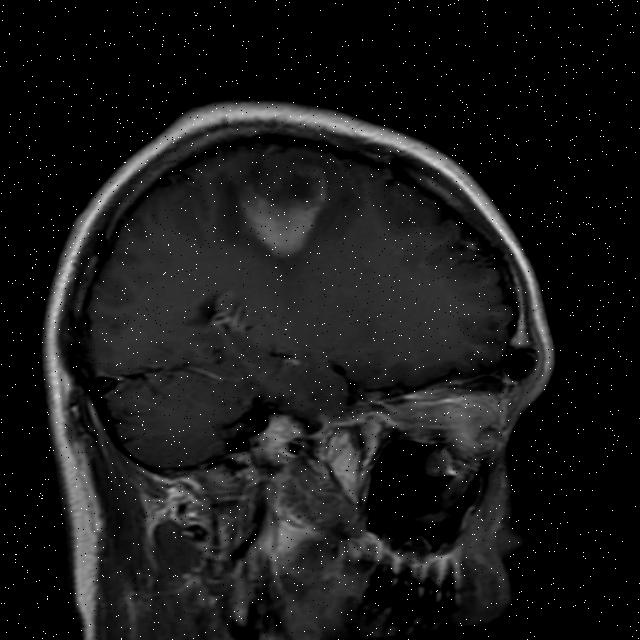Glioma: (227, 147, 337, 265)
